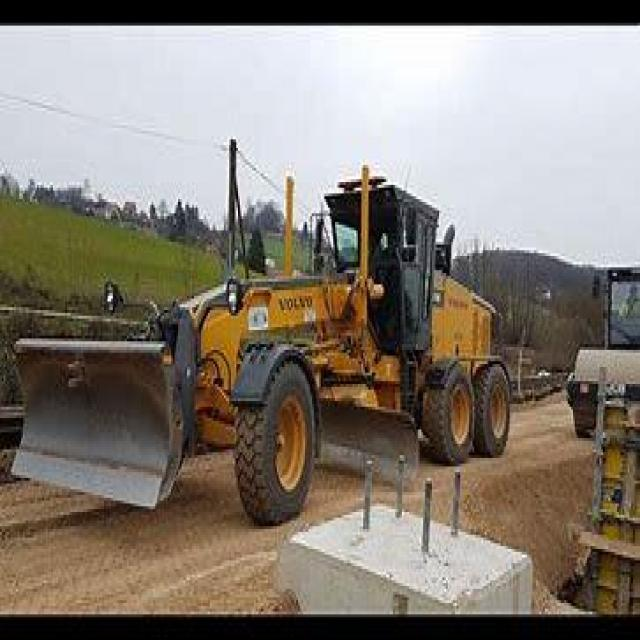Grader: (144, 133, 529, 534)
